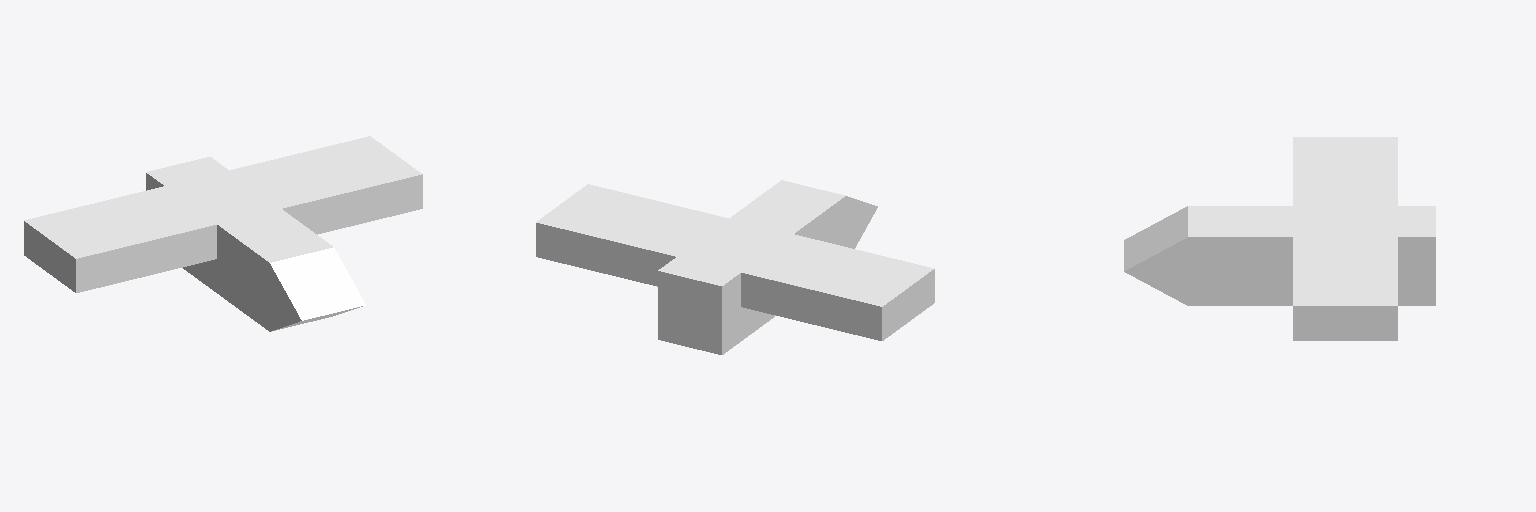
Rendered from Navecita.obj.
3 renders of one model, left to right at view 1: azimuth 30°, elevation 25°; view 2: azimuth 150°, elevation 25°; view 3: azimuth 270°, elevation 25°, orthographic.
Visible parts, largest first — view 1: Navecita; view 2: Navecita; view 3: Navecita.
Boxes of the visible parts, <box> form: Navecita: <box>24,136,422,331</box>; Navecita: <box>536,180,934,354</box>; Navecita: <box>1124,137,1435,340</box>.
Bounding box in the file's own units: 5.26 × 1 × 4.1.